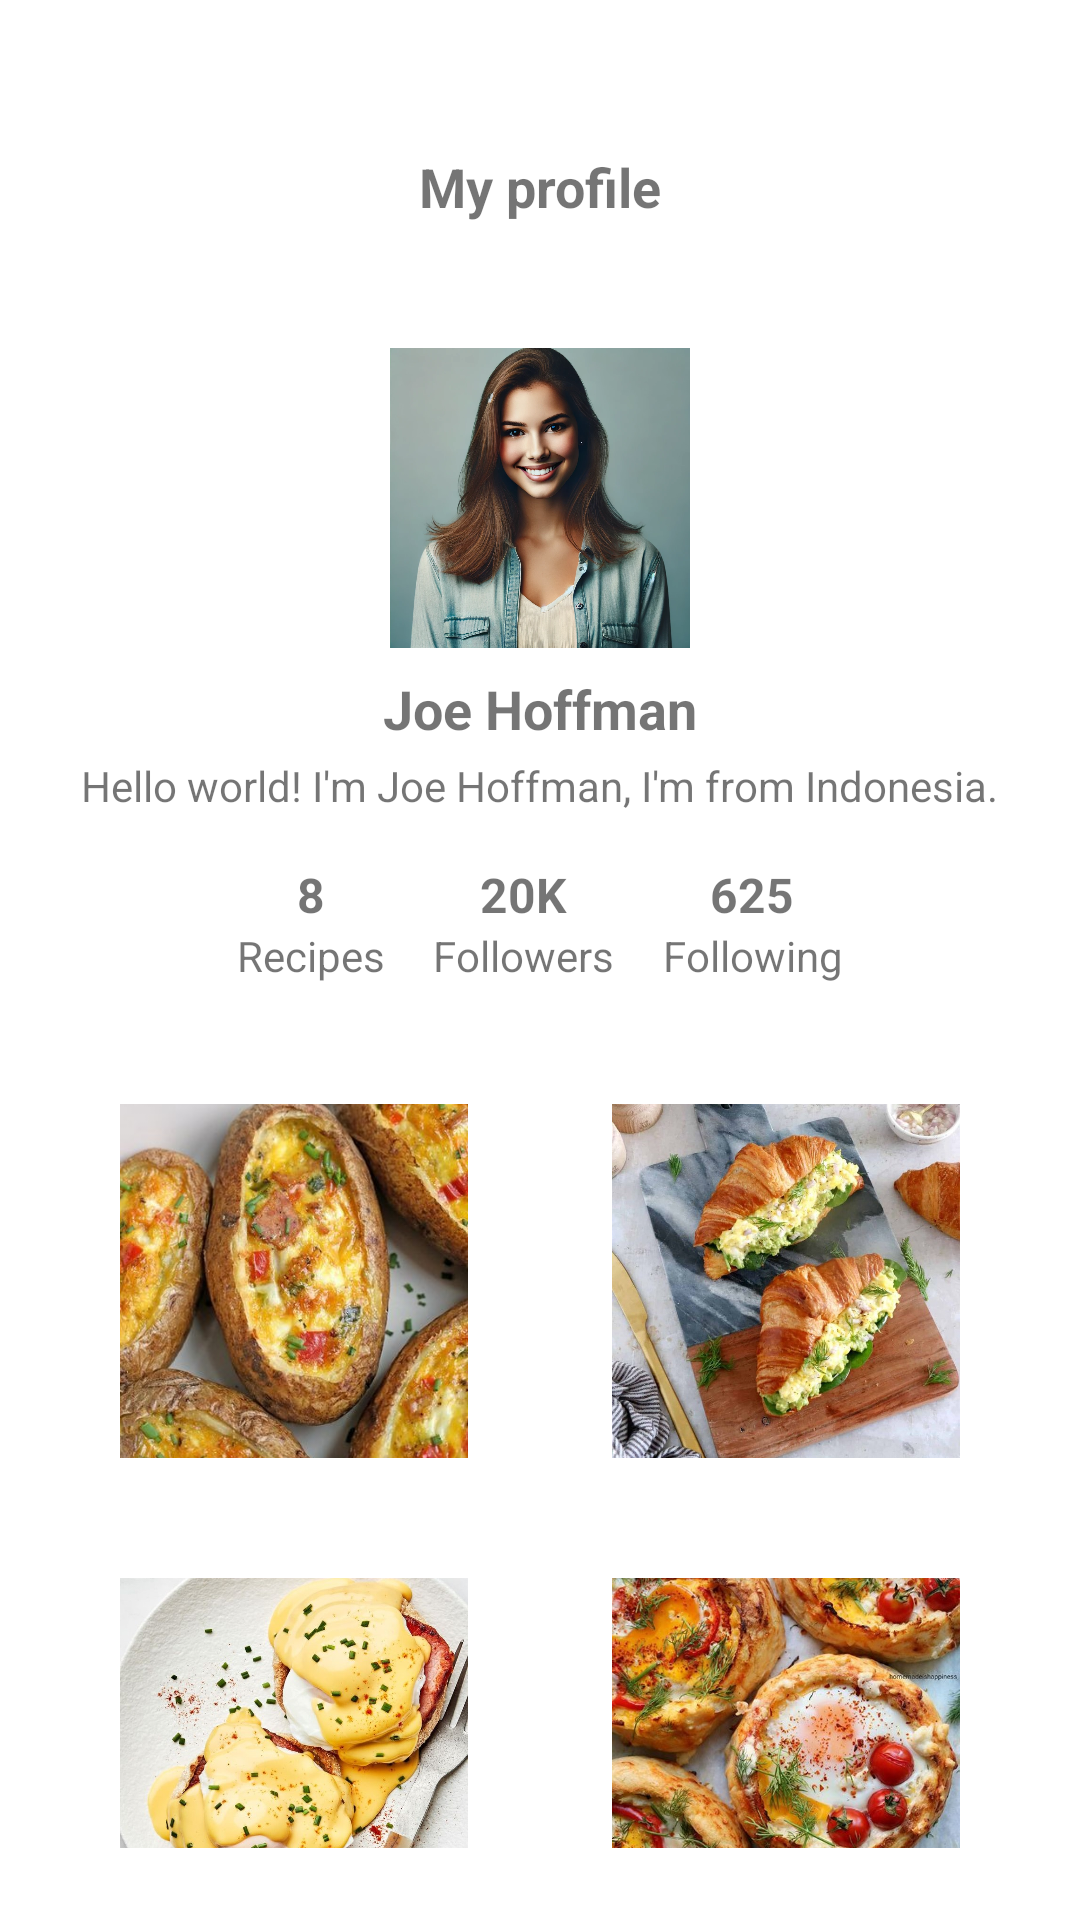

Screen size 1080×1920. Icon name, then its center in pixels as [x,y]:
whole egg potato boats: [294,1281]
